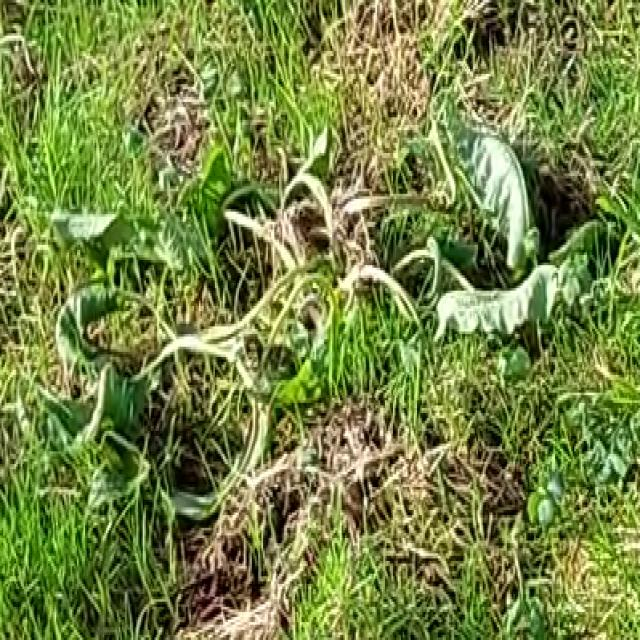organic waste: (45, 90, 587, 508)
